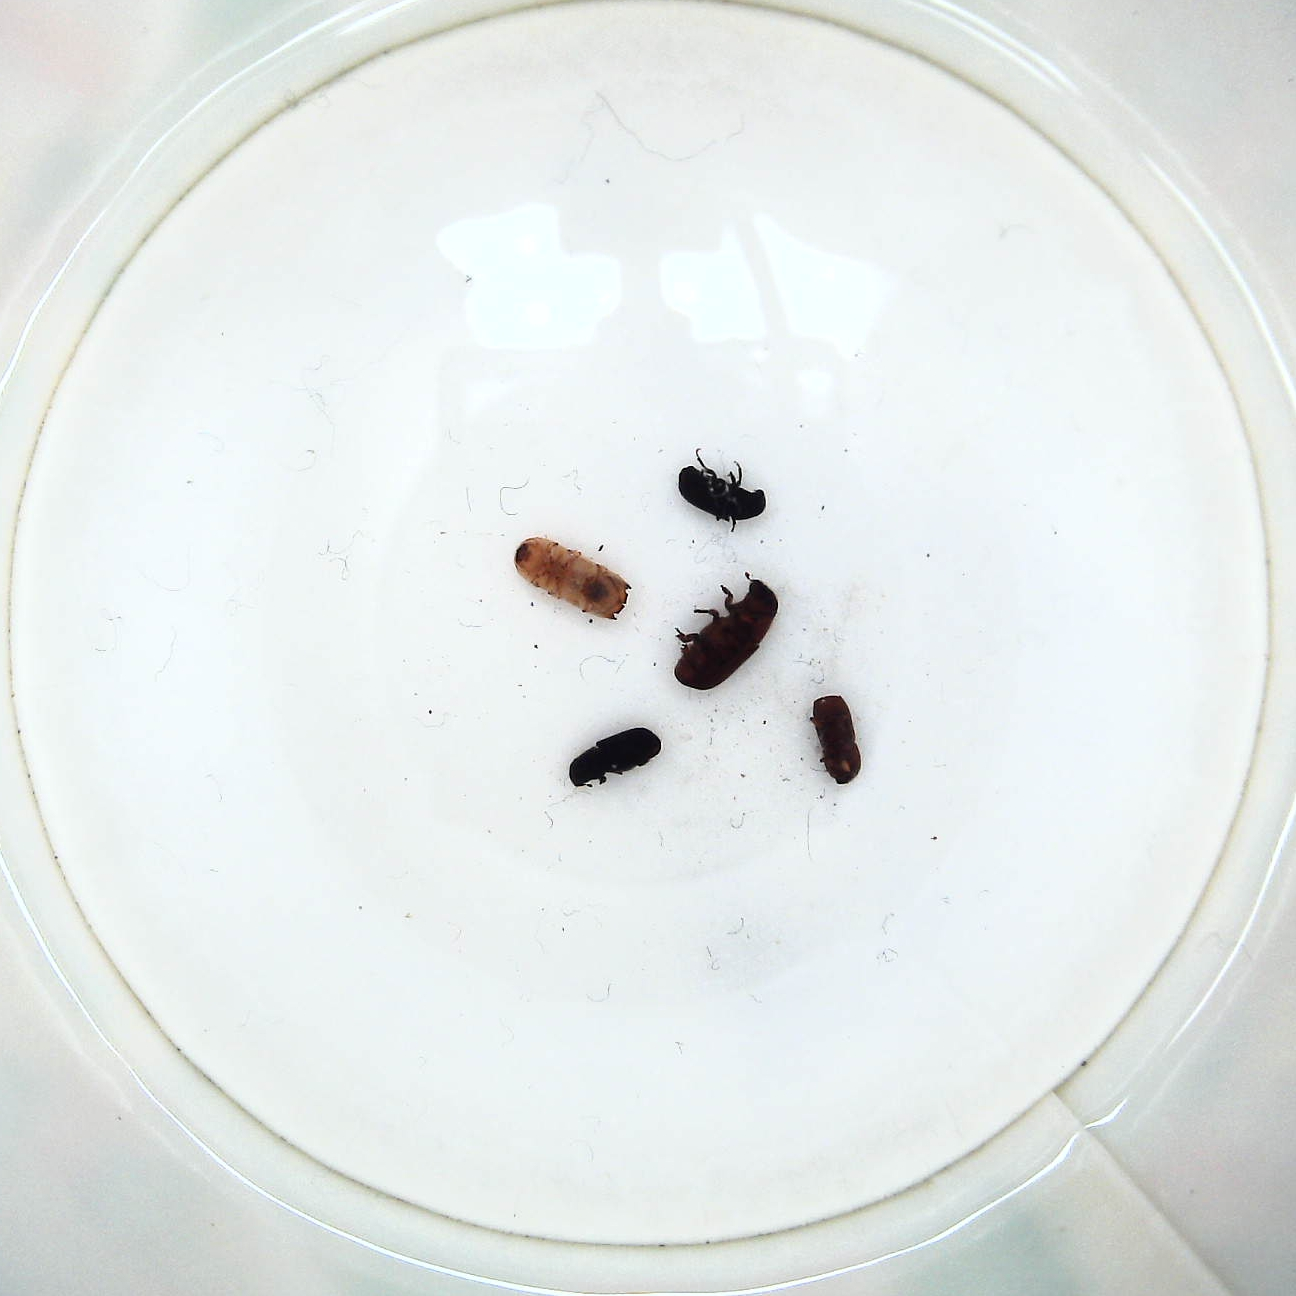Boerner: (508, 528, 633, 628)
Leconte: (674, 577, 781, 694)
armandi: (564, 726, 672, 792)
coleoptera: (674, 447, 771, 526)
linnaeus: (806, 685, 862, 794)
